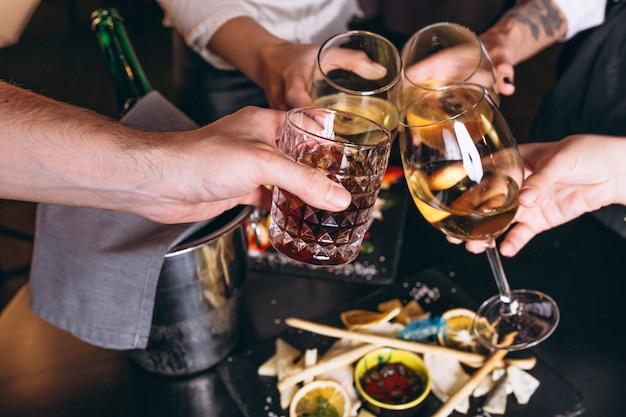alcohol: (397, 81, 563, 355), (266, 109, 395, 263), (315, 31, 401, 179), (401, 23, 504, 135), (83, 6, 166, 121)
